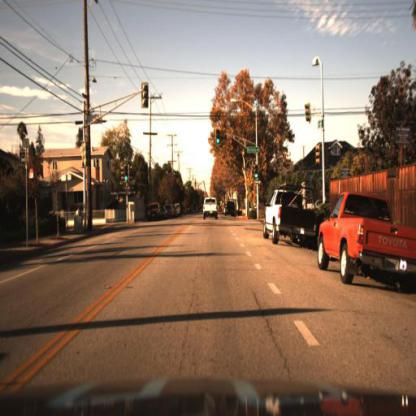car: (318, 192, 416, 289), (257, 181, 318, 251), (201, 187, 222, 225), (146, 204, 163, 225), (176, 201, 184, 222), (163, 203, 171, 221), (169, 201, 177, 219)
trafficLight-Green: (215, 132, 224, 150), (253, 164, 261, 184), (253, 171, 261, 184), (123, 174, 128, 189)
